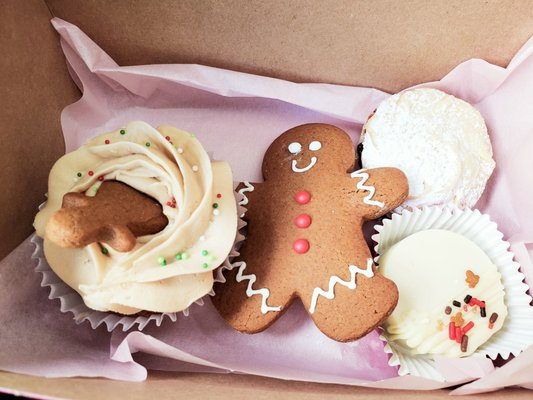salad: (32, 121, 238, 318), (380, 225, 509, 361)
